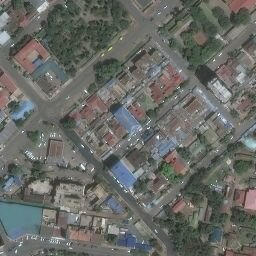tree: (103, 61, 119, 77), (159, 163, 173, 176), (218, 15, 231, 29), (237, 8, 250, 22), (67, 1, 80, 15), (133, 181, 146, 194), (62, 117, 76, 129), (180, 32, 194, 44), (233, 161, 247, 173), (191, 194, 204, 206), (178, 148, 190, 160), (230, 13, 240, 26), (28, 131, 39, 142), (8, 101, 19, 112), (212, 7, 224, 17), (174, 213, 186, 223), (8, 164, 19, 174), (59, 51, 70, 61), (219, 213, 228, 225), (227, 143, 237, 153), (32, 160, 42, 169), (107, 234, 117, 243), (119, 20, 129, 29), (94, 63, 103, 72), (67, 66, 76, 75), (89, 84, 97, 93), (96, 75, 104, 83), (15, 118, 23, 126), (184, 49, 192, 57), (147, 110, 155, 117)
